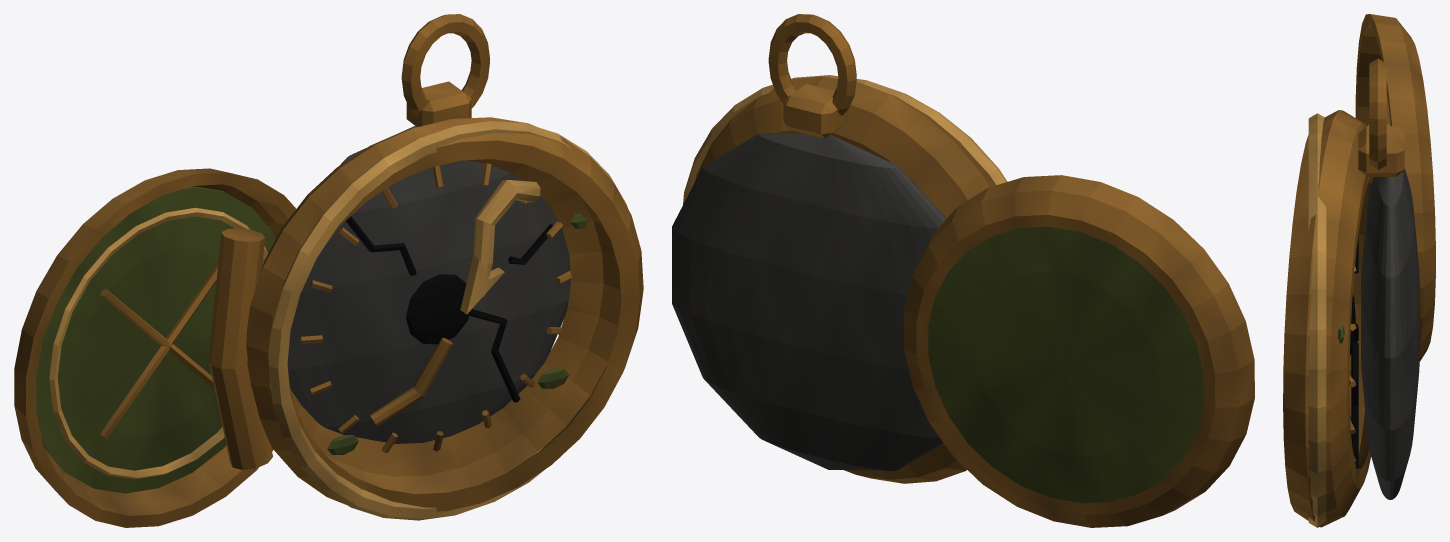
File: grave_compass.fbx
3 views of the same model, side by side, from view 1: azimuth 30°, elevation 25°; view 2: azimuth 150°, elevation 25°; view 3: azimuth 270°, elevation 25° (orthographic). The views are drawn at different scales.
Visible parts, largest first — view 1: grave_compass; view 2: grave_compass; view 3: grave_compass.
Boxes of the visible parts, x1,y1,x2,y2 form: grave_compass: (14,14,643,527); grave_compass: (672,14,1254,527); grave_compass: (1283,14,1435,527).
Bounding box in the file's own units: 3.74 × 2.85 × 0.86.
